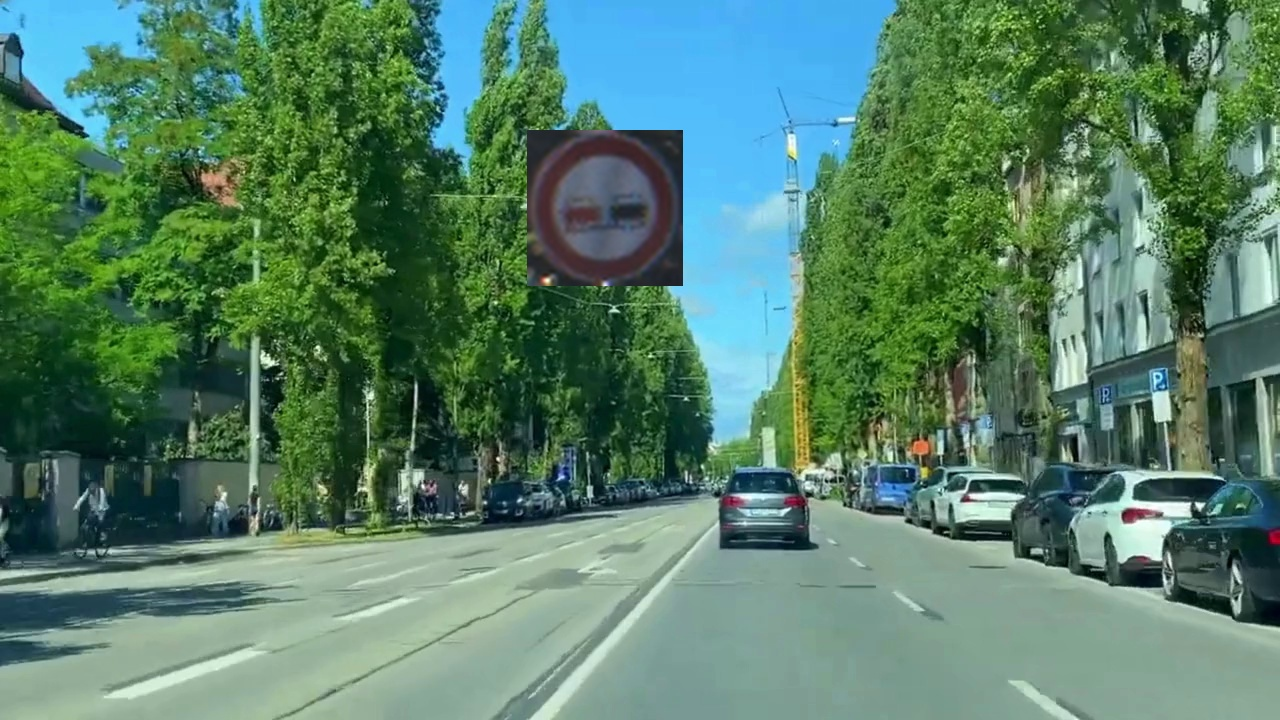No passing: (527, 130, 683, 286)
